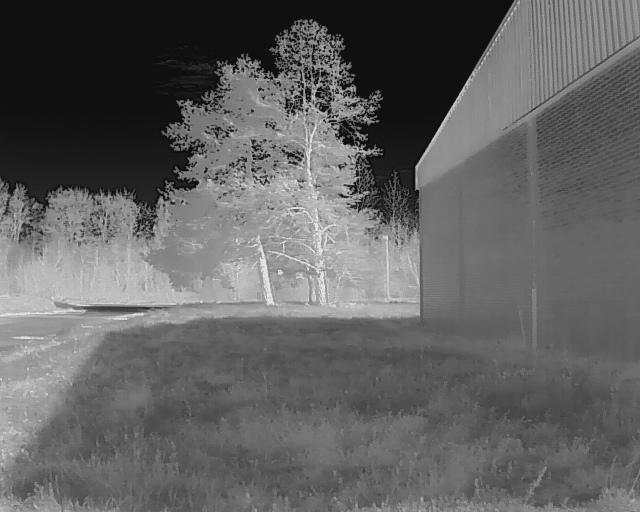drone: (262, 260, 327, 290)
